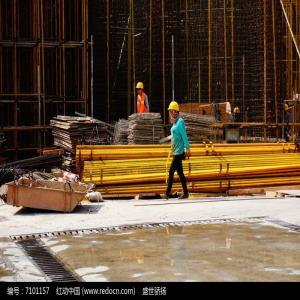yellow: (169, 102, 180, 120), (136, 82, 144, 94), (284, 104, 289, 114)
